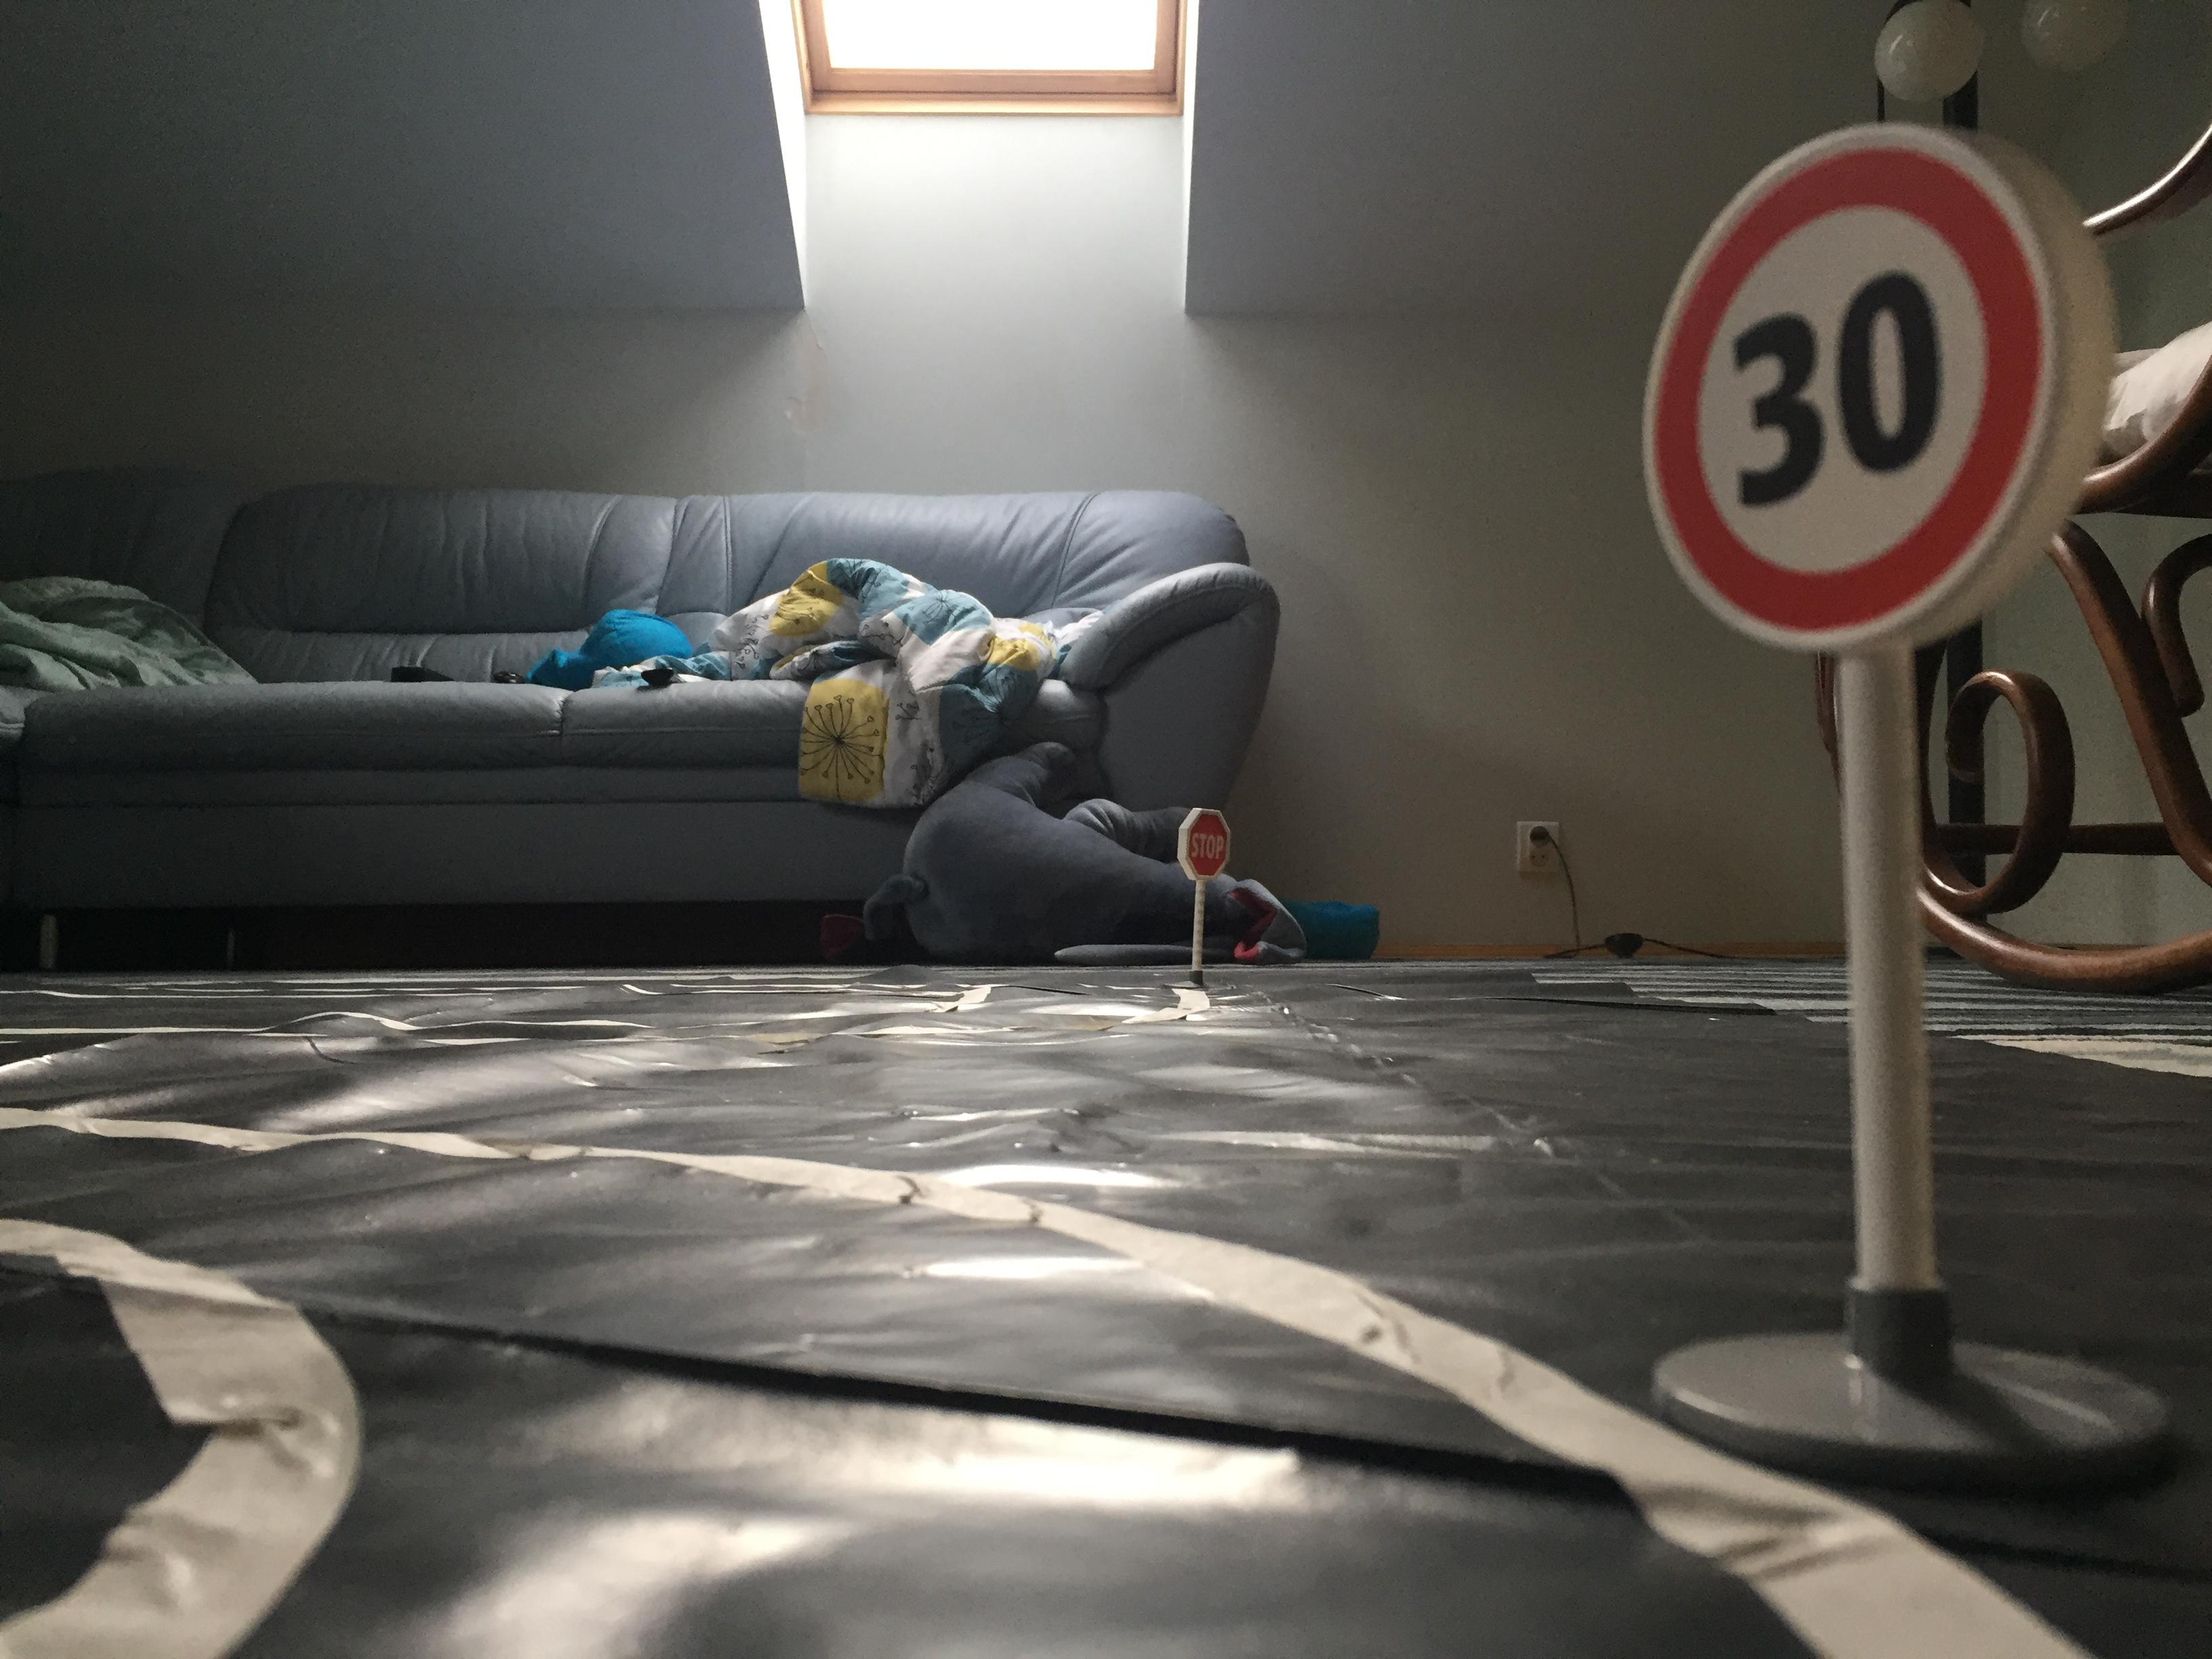speed: (1622, 115, 2134, 667)
